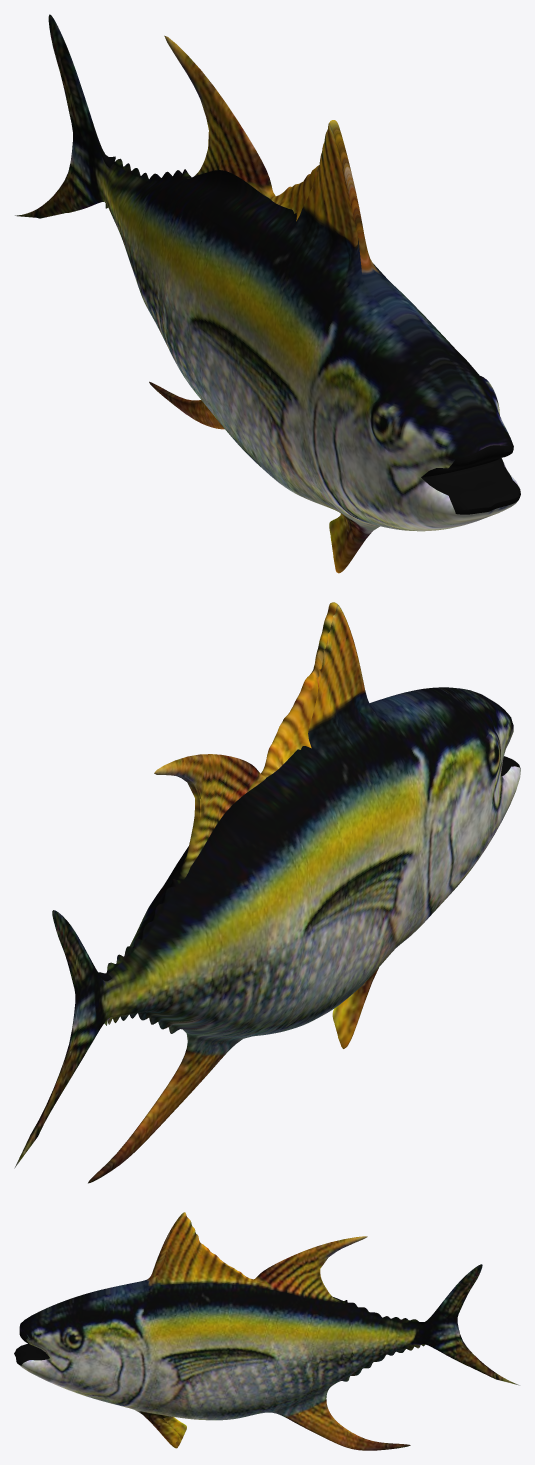
Rendered from tuna.obj.
3 views of the same model, one above another, from view 1: azimuth 30°, elevation 25°; view 2: azimuth 150°, elevation 25°; view 3: azimuth 270°, elevation 25° (orthographic). The views are drawn at different scales.
Parts seen in each view (by area): view 1: tuna; view 2: tuna; view 3: tuna.
Part boxes in pixels (x1=…): tuna: x1=15, y1=14, x2=520, y2=573; tuna: x1=14, y1=602, x2=520, y2=1183; tuna: x1=14, y1=1212, x2=519, y2=1450.
Size of the model in its own units: 0.14 by 0.5217 by 1.01.
Materials: 2 (1 with a texture image).
